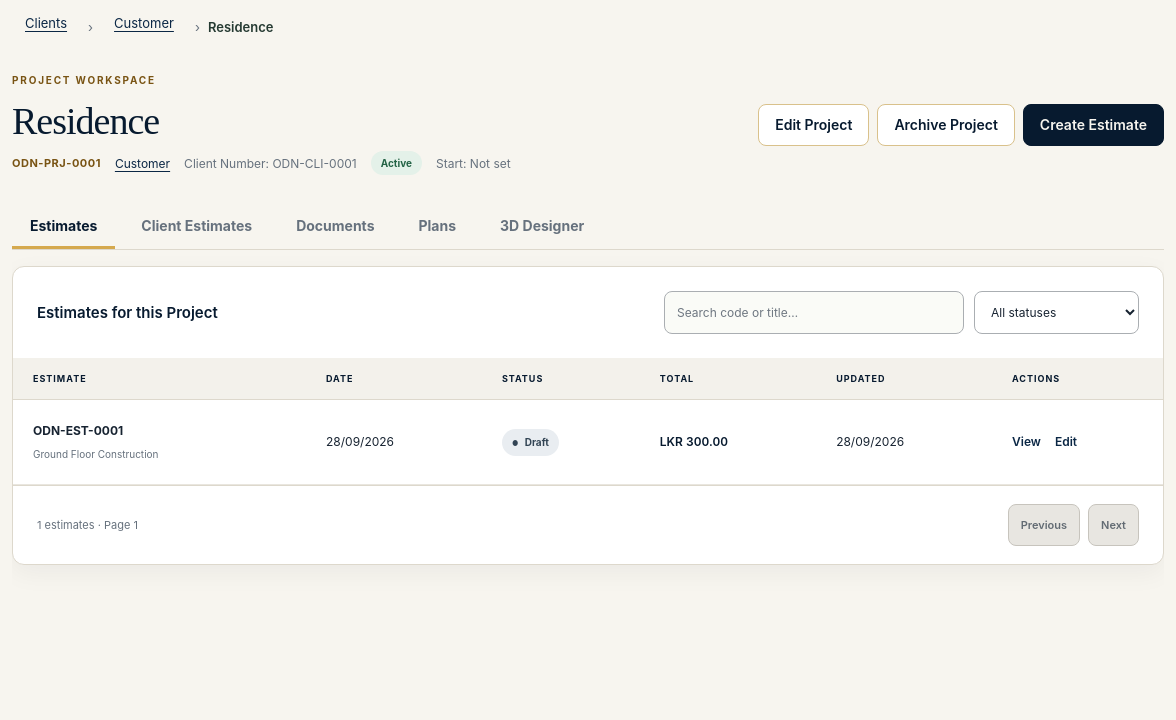
Test: shows saved Client Estimates under their Project tab
Check: the text "Ground Floor Construction" is shown, box left=33, top=448, right=158, bottom=460
What coordinates should you click on to do the following:
click the tab "Client Estimates"
I would click on:
 (197, 227)
Its box is left=123, top=205, right=270, bottom=249.
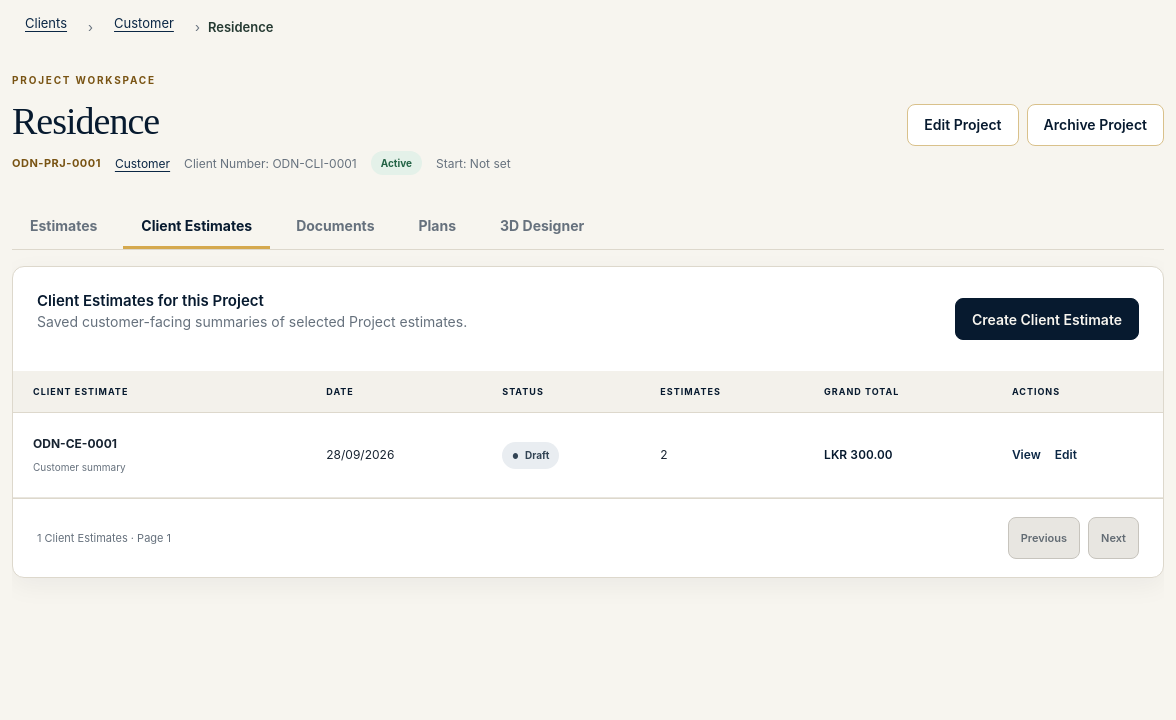
Check: the text "LKR 300.00" is shown, box left=804, top=413, right=992, bottom=498
Check: the text "ODN-CE-0001" is shown, box left=33, top=436, right=117, bottom=451
Check: the text "Customer summary" is shown, box left=33, top=461, right=126, bottom=473
